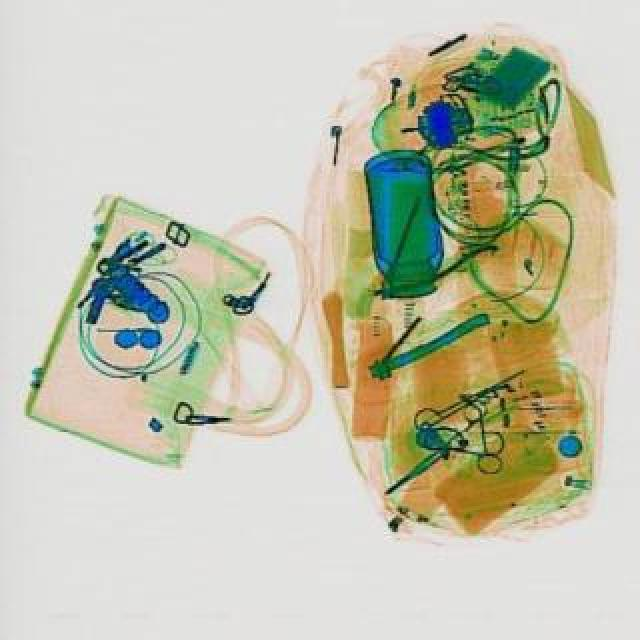pliers: (364, 392, 516, 514)
